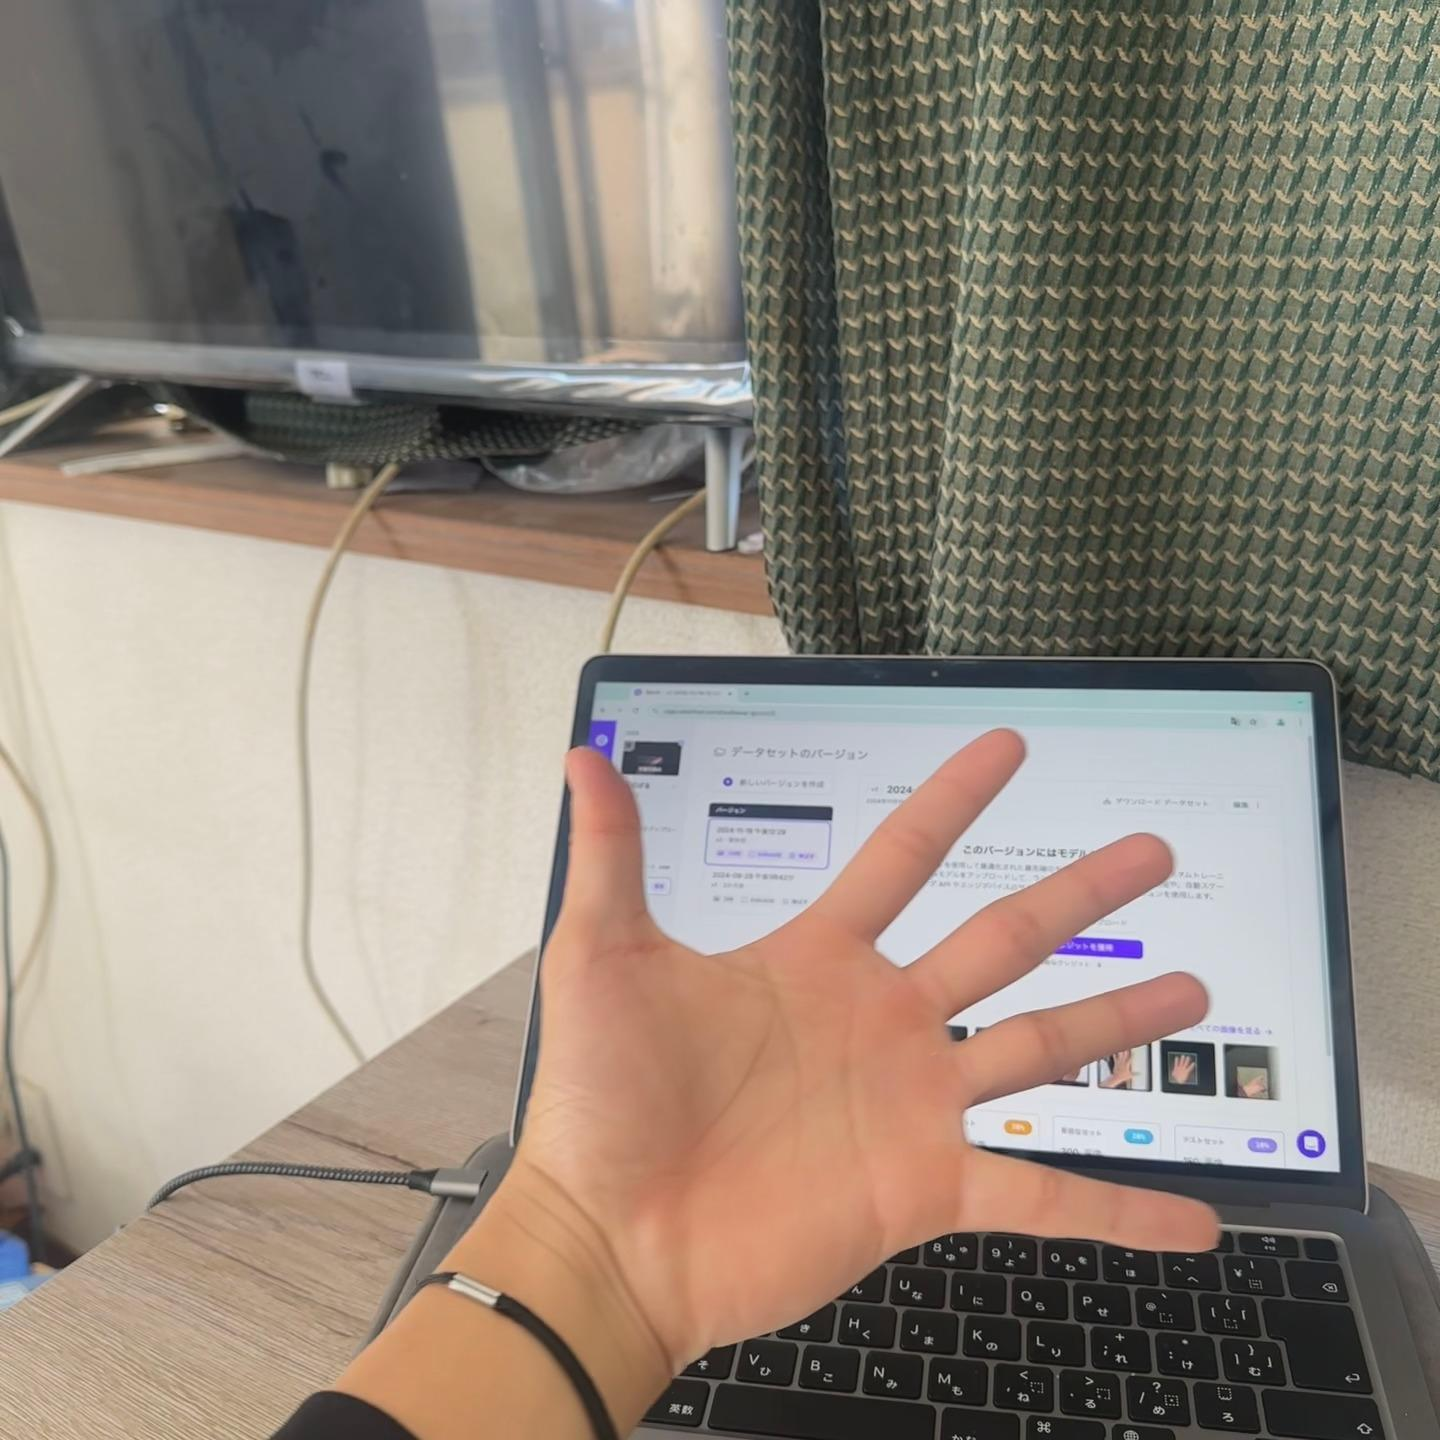without_gloves: (233, 509, 1240, 1357)
